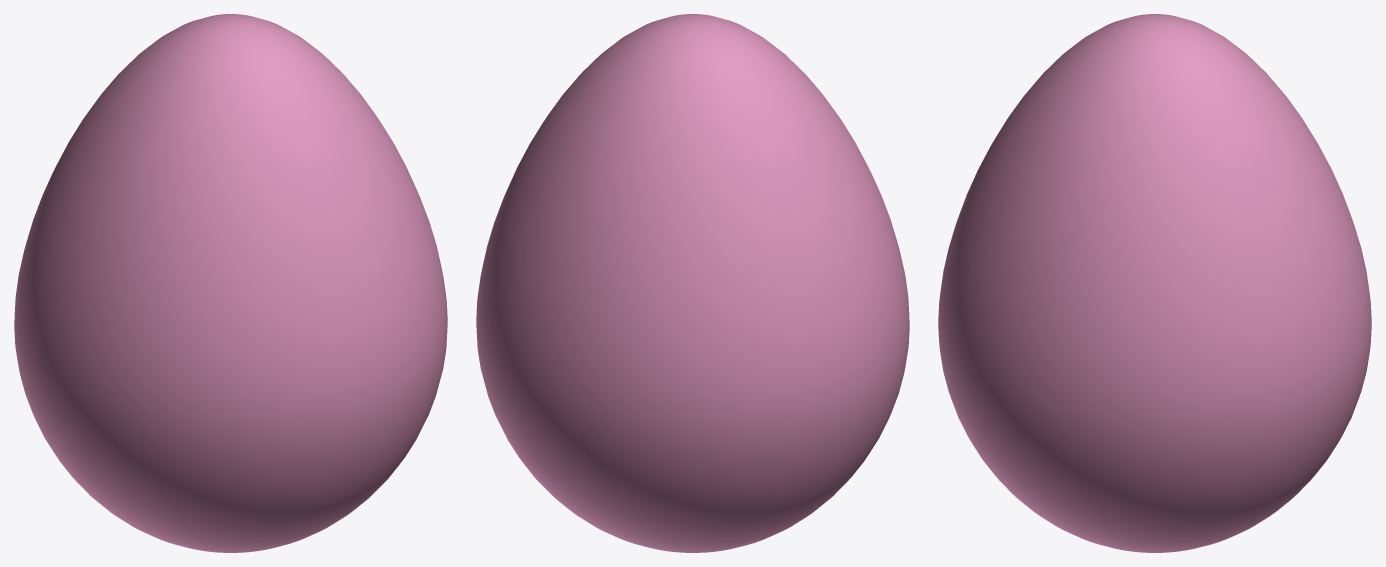
The model's file is shell1.glb.
3 views of the same model, side by side, from view 1: azimuth 30°, elevation 25°; view 2: azimuth 150°, elevation 25°; view 3: azimuth 270°, elevation 25° (orthographic).
Visible parts, largest first — view 1: Sphere; view 2: Sphere; view 3: Sphere.
Part boxes in pixels (left/top/right/bottom): Sphere: left=14, top=14, right=447, bottom=552; Sphere: left=476, top=14, right=909, bottom=552; Sphere: left=938, top=14, right=1371, bottom=552.
Size of the model in its own units: 2 by 2.61 by 2.
